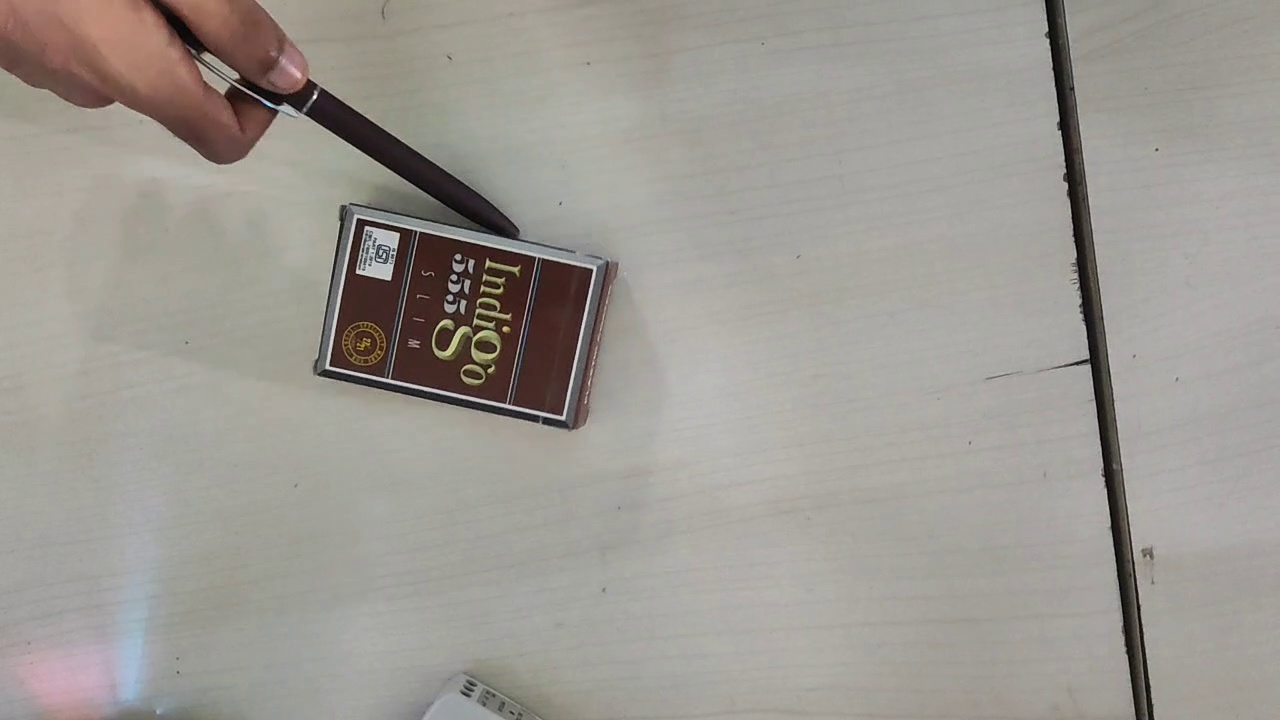BEX: (327, 213, 596, 420)
